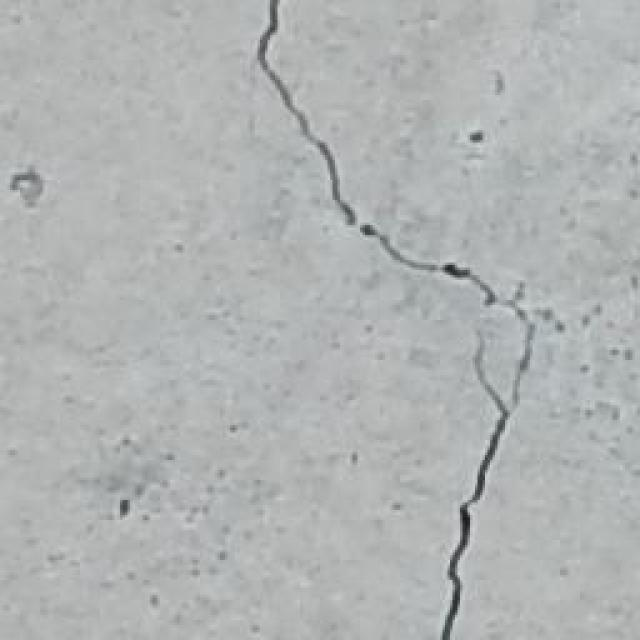concrete-crack: (250, 0, 535, 640)
